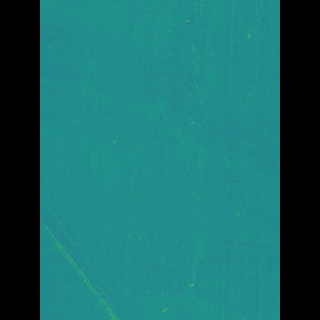Loch: (147, 0, 252, 310), (69, 13, 235, 169), (70, 188, 152, 320)
